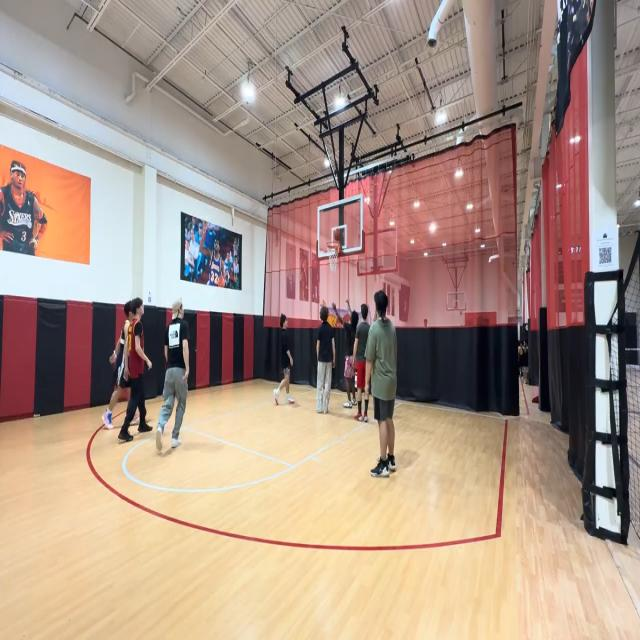Basketball: (334, 227, 340, 240)
Basketball Rim: (326, 240, 340, 272)
